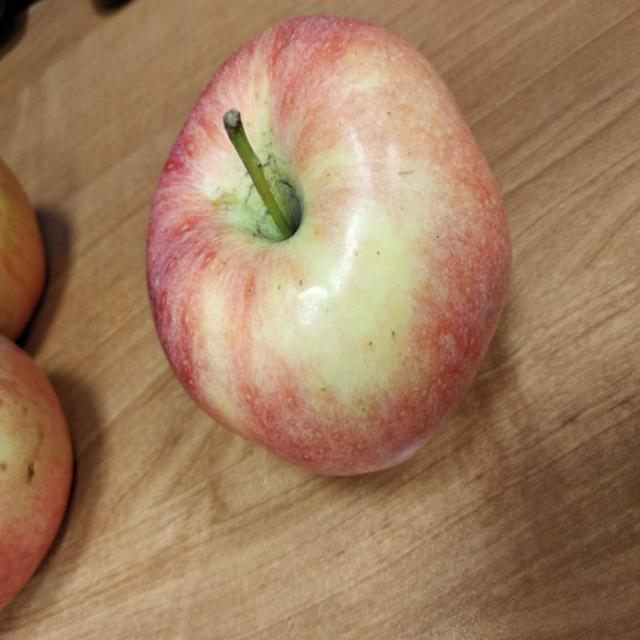Fresh Apple: (140, 34, 518, 458)
